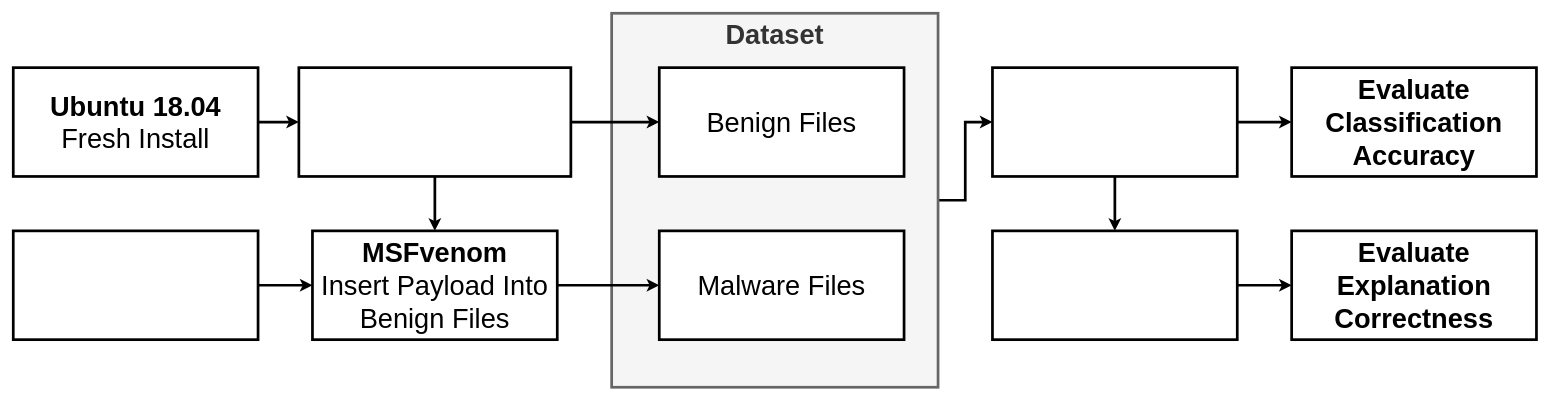
Some shapes in this 1549 by 400 pixel diagram are drawn without their labels. Each missing label, with the centre of its shape:
"Extract Benign Files ELF files from /bin/ and /usr/bin/" goes at (434,121).
"Generate Explanation Saliency Maps" goes at (1114,285).
"Metasploit Payload Database" goes at (135,285).
"Train Classifier Machine Learning" goes at (1114,121).
